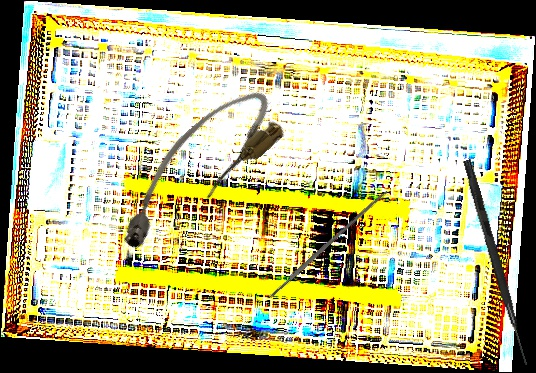Cannula: (95, 77, 294, 262)
Hook Surgical: (460, 159, 533, 366)
Scalpel Handle: (267, 188, 389, 300)
